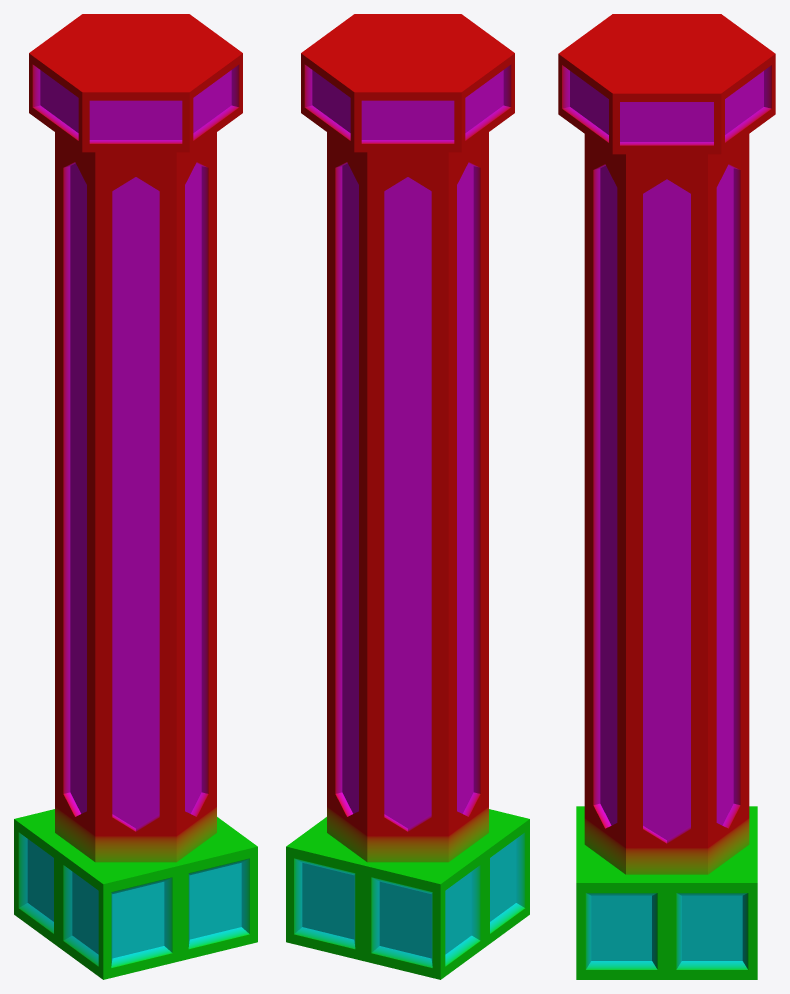
The model's file is TestPiller.fbx.
3 renders of one model, left to right at view 1: azimuth 30°, elevation 25°; view 2: azimuth 150°, elevation 25°; view 3: azimuth 270°, elevation 25°, orthographic.
Parts seen in each view (by area): view 1: TestPiller; view 2: TestPiller; view 3: TestPiller.
Part boxes in pixels (x1,y1,x2,y2): TestPiller: [14, 14, 257, 979]; TestPiller: [286, 14, 529, 979]; TestPiller: [558, 14, 775, 979].
Bounding box in the file's own units: 41.56 × 216 × 47.99.
